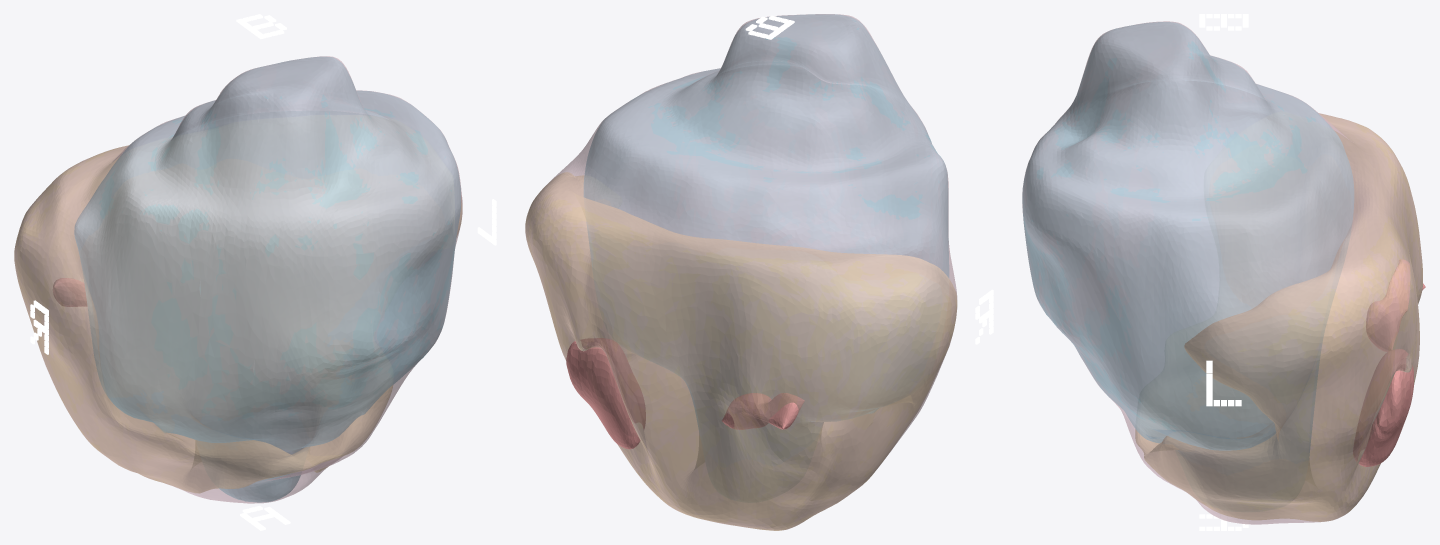
The picture shows the model from 3 angles, left to right: view 1: azimuth 30°, elevation 25°; view 2: azimuth 150°, elevation 25°; view 3: azimuth 270°, elevation 25°; orthographic projection. The views are drawn at different scales.
Visible parts, largest first — view 1: prostate_gland, transition_zone, peripheral_zone, lesion_01, pv_ar_marker_B, pv_ar_marker_R; view 2: prostate_gland, peripheral_zone, transition_zone, lesion_01, pv_ar_marker_B; view 3: prostate_gland, transition_zone, peripheral_zone, lesion_01, pv_ar_marker_B, pv_ar_marker_L.
Boxes of the visible parts, x1,y1,x2,y2 form: prostate_gland: [14, 56, 462, 503]; transition_zone: [74, 57, 460, 502]; peripheral_zone: [14, 145, 461, 493]; lesion_01: [53, 278, 86, 306]; pv_ar_marker_B: [236, 14, 286, 39]; pv_ar_marker_R: [30, 300, 48, 354]; prostate_gland: [525, 14, 957, 530]; peripheral_zone: [525, 172, 957, 530]; transition_zone: [583, 14, 948, 431]; lesion_01: [566, 338, 804, 449]; pv_ar_marker_B: [745, 15, 794, 39]; prostate_gland: [1022, 21, 1422, 524]; transition_zone: [1022, 22, 1353, 454]; peripheral_zone: [1135, 113, 1422, 521]; lesion_01: [1353, 259, 1425, 466]; pv_ar_marker_B: [1199, 14, 1248, 30]; pv_ar_marker_L: [1206, 360, 1241, 406].
Size of the model in its own units: 0.0596 by 0.0626 by 0.0456.
